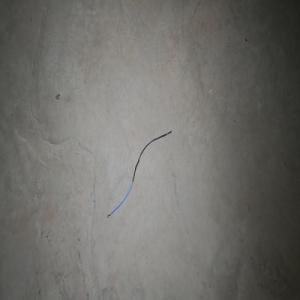Wire: (107, 130, 172, 218)
